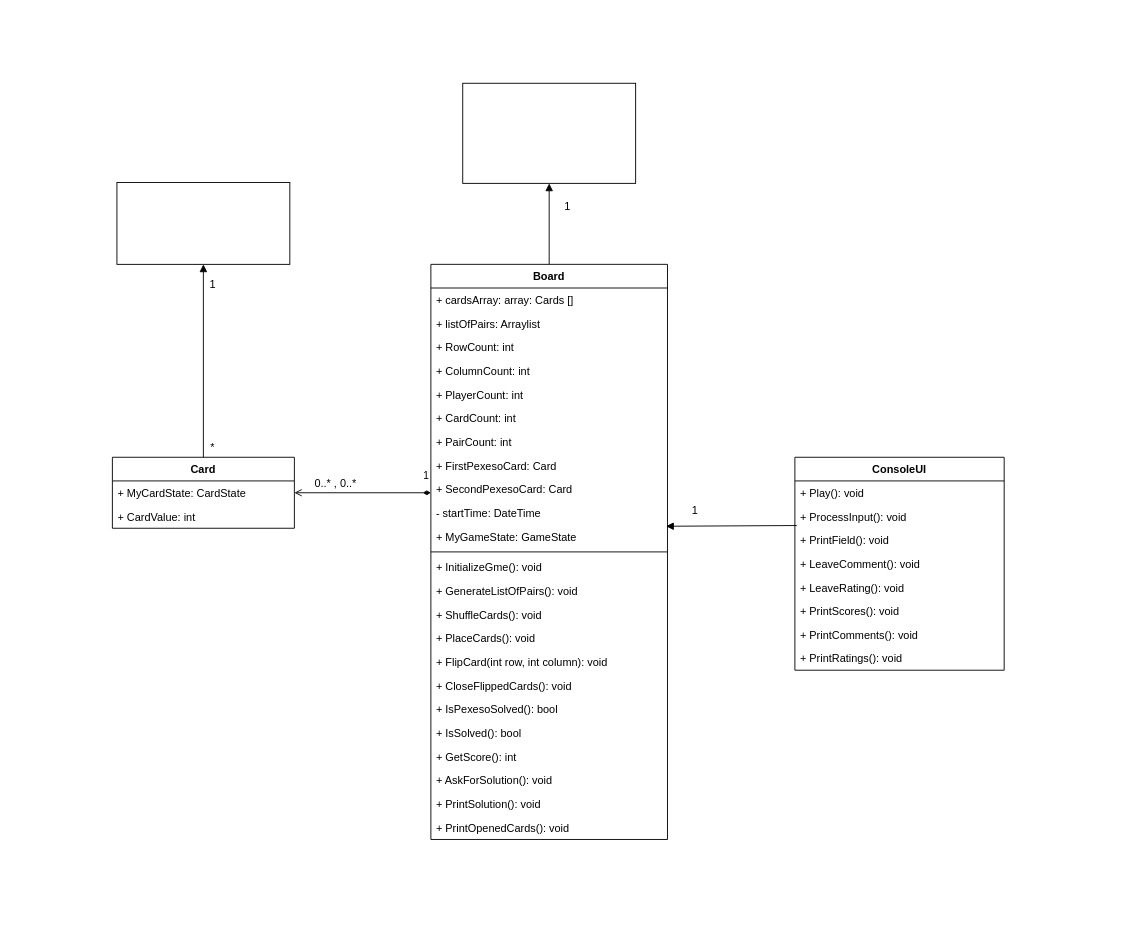
The diagram is 1129 pixels wide and 939 high, and some of its shapes have lost their labels. The centre of each missing label's shape, as x and y in pixels:
"<<Enumeration>> CardState + CLOSED + OPENED + PAIRED" belongs at (203,223).
"<<Enumeration>> GameState + INITIATING + PLAYING + SOLVED + INCORRECT" belongs at (549,132).
